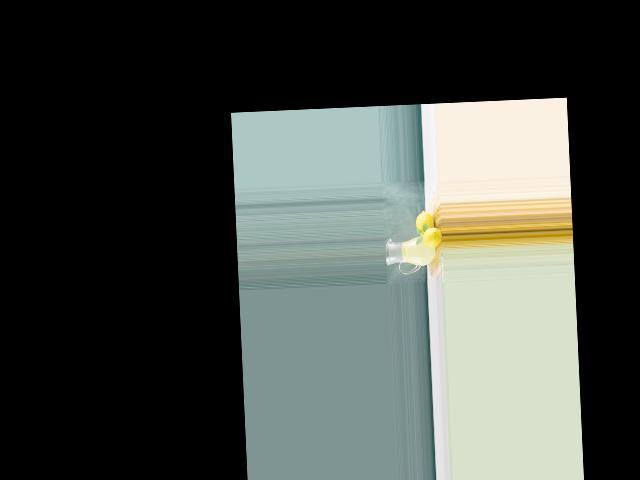lemon: (421, 223, 441, 248)
